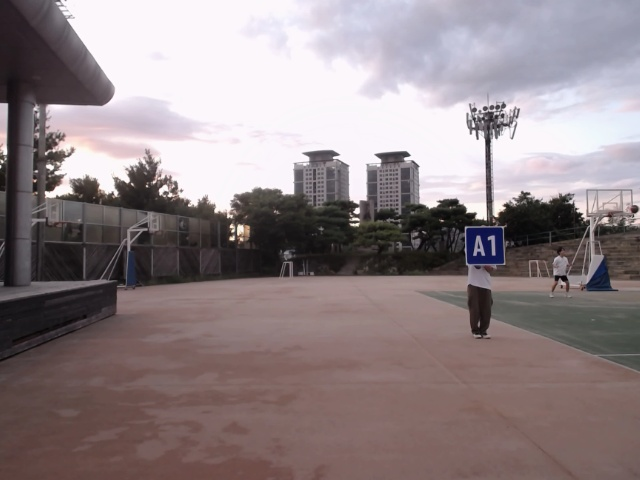delivery_a1: (465, 227, 505, 265)
